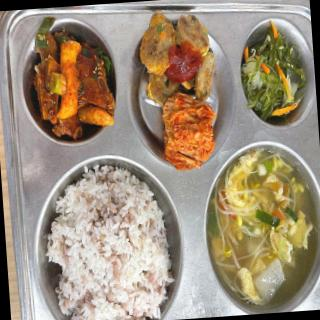Nasi: (31, 155, 174, 320)
